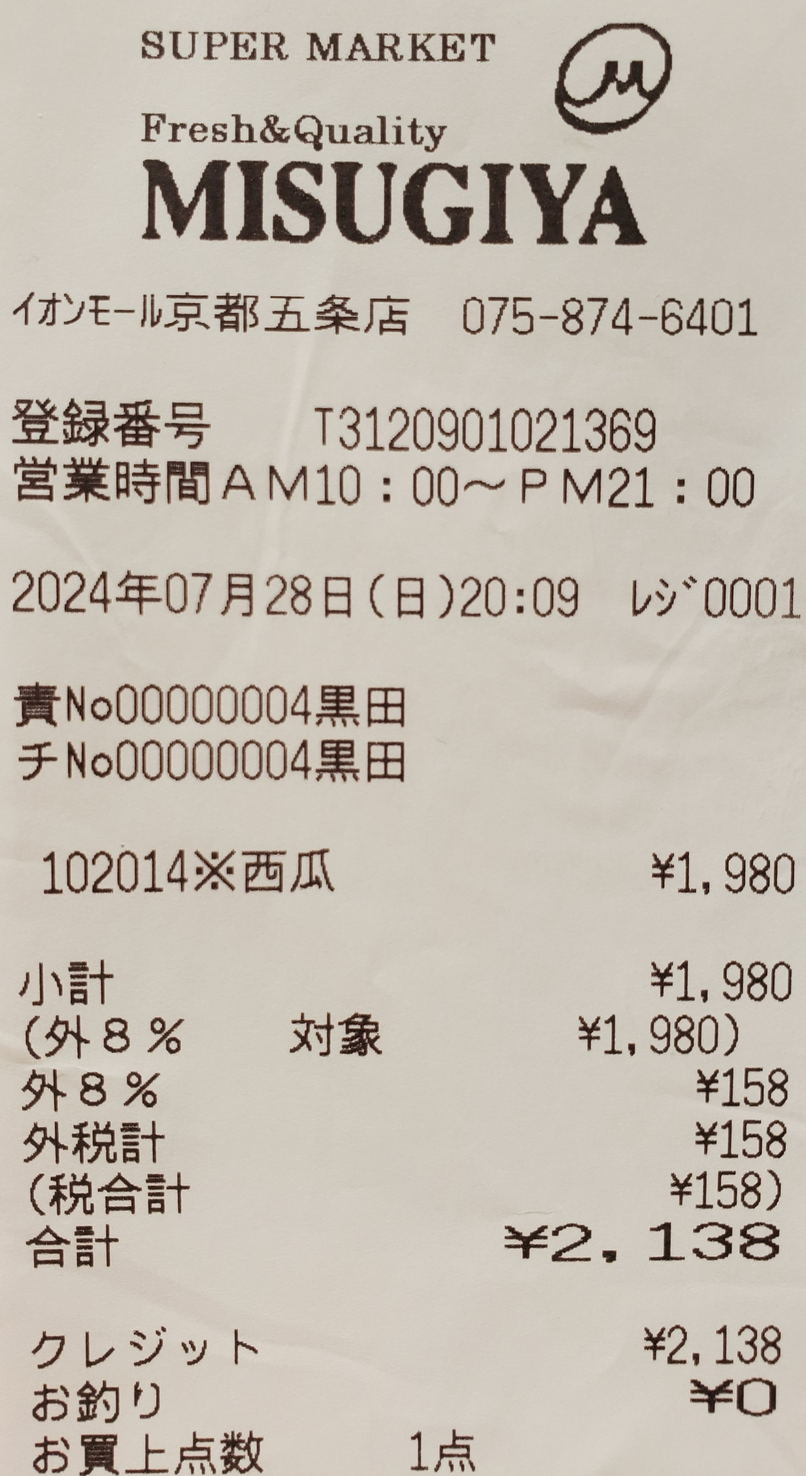Date: (12, 563, 362, 629)
Shopname: (140, 149, 670, 259)
Telnum: (457, 281, 769, 347)
Totalpay: (23, 1219, 793, 1281)
